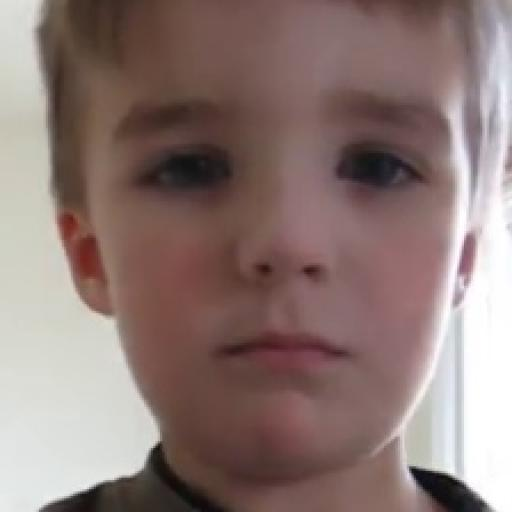Autism: (64, 6, 486, 484)
